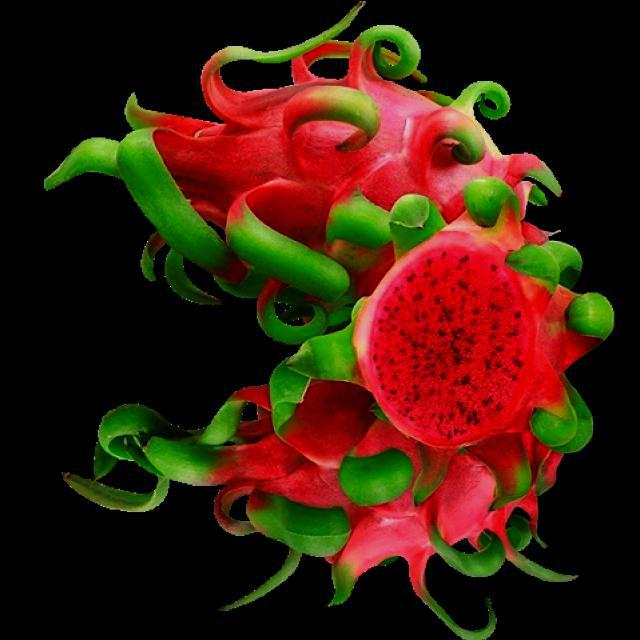do: (37, 1, 574, 302), (60, 400, 498, 634), (358, 188, 612, 466)
